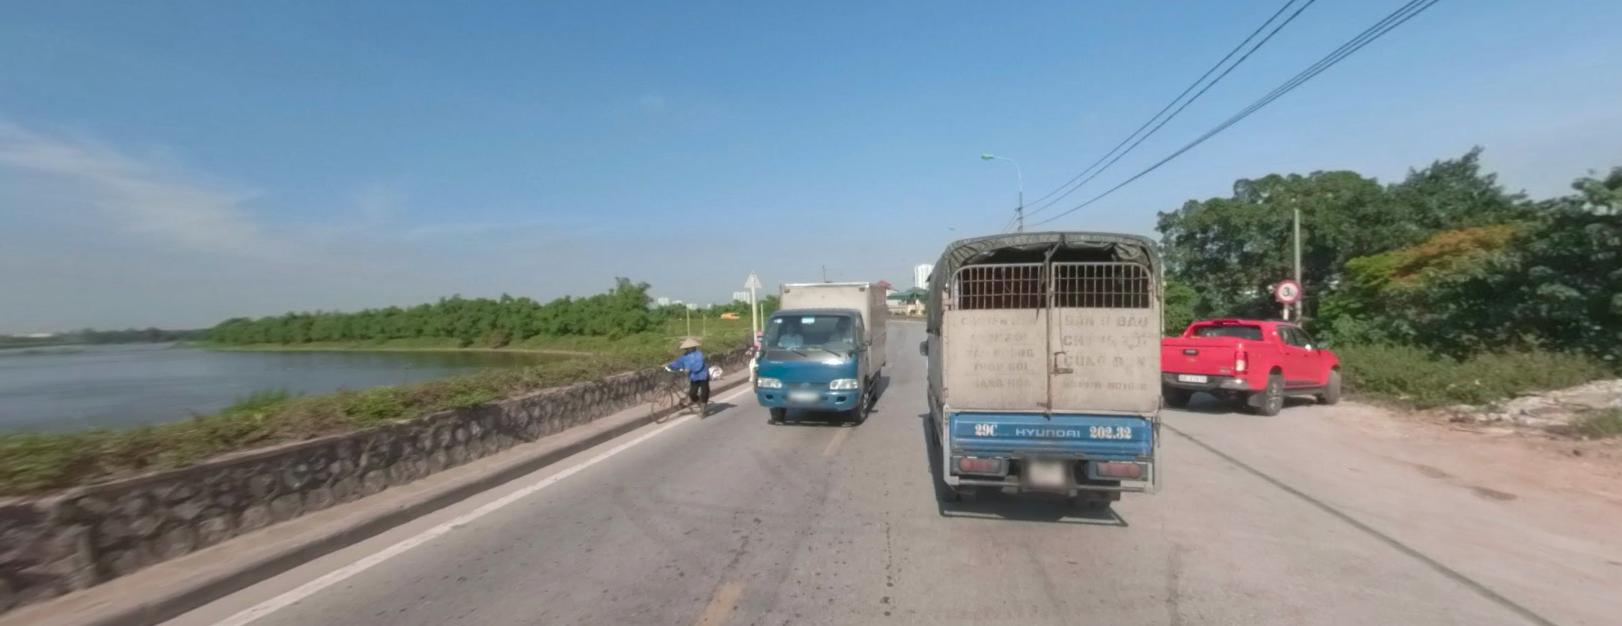Gioi han toc do: (1271, 277, 1301, 303)
